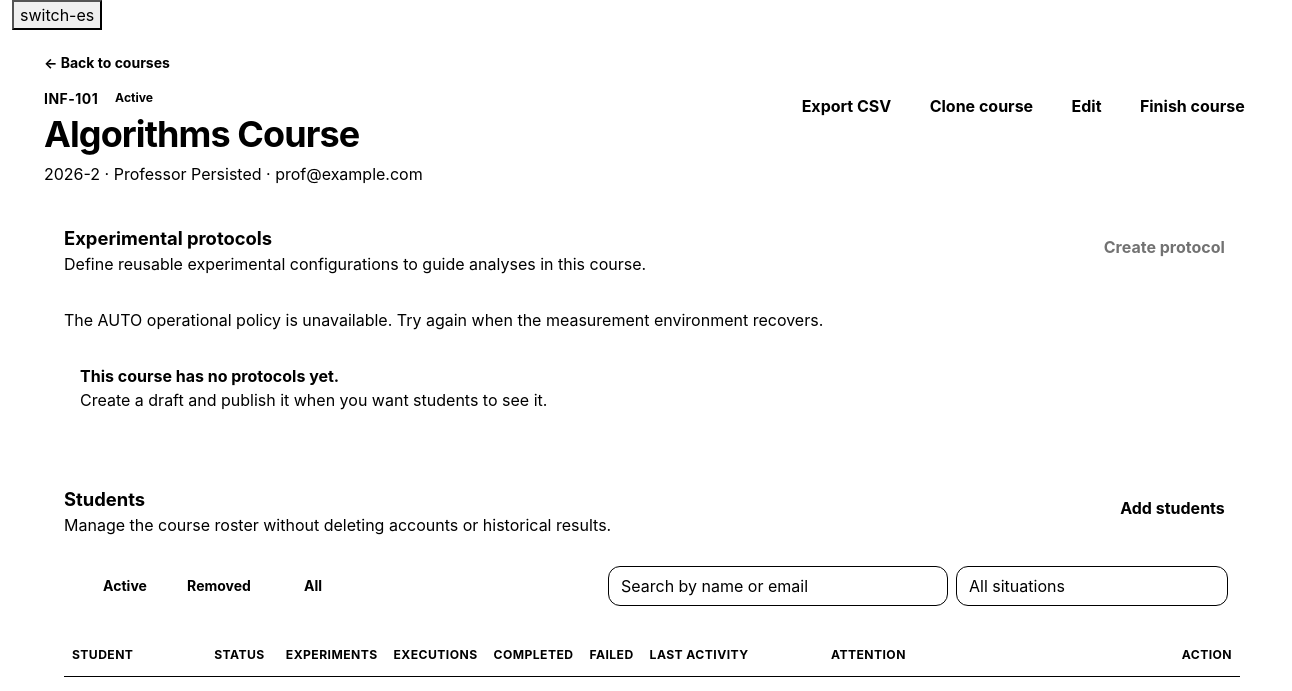
Test case: TeacherCourseDetail roster i18n › localizes bulk enrollment summary and privacy-safe rejection reason
The image size is (1292, 691).
Click the button "Add students" at [1172, 508], box x1=1105 y1=488 x2=1240 y2=528
(page scrolled)
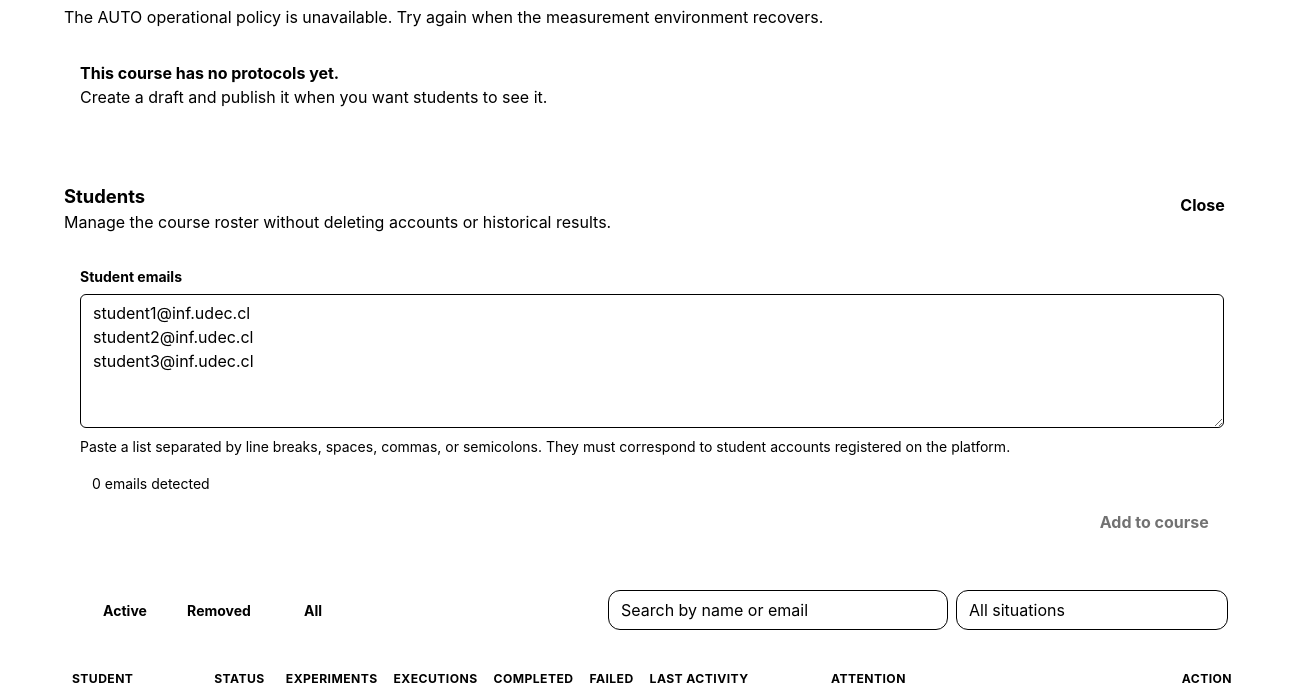
Replace the text in the text box labelled "Student emails" with "ghost@example.com" at [652, 360], box x1=80 y1=294 x2=1224 y2=428
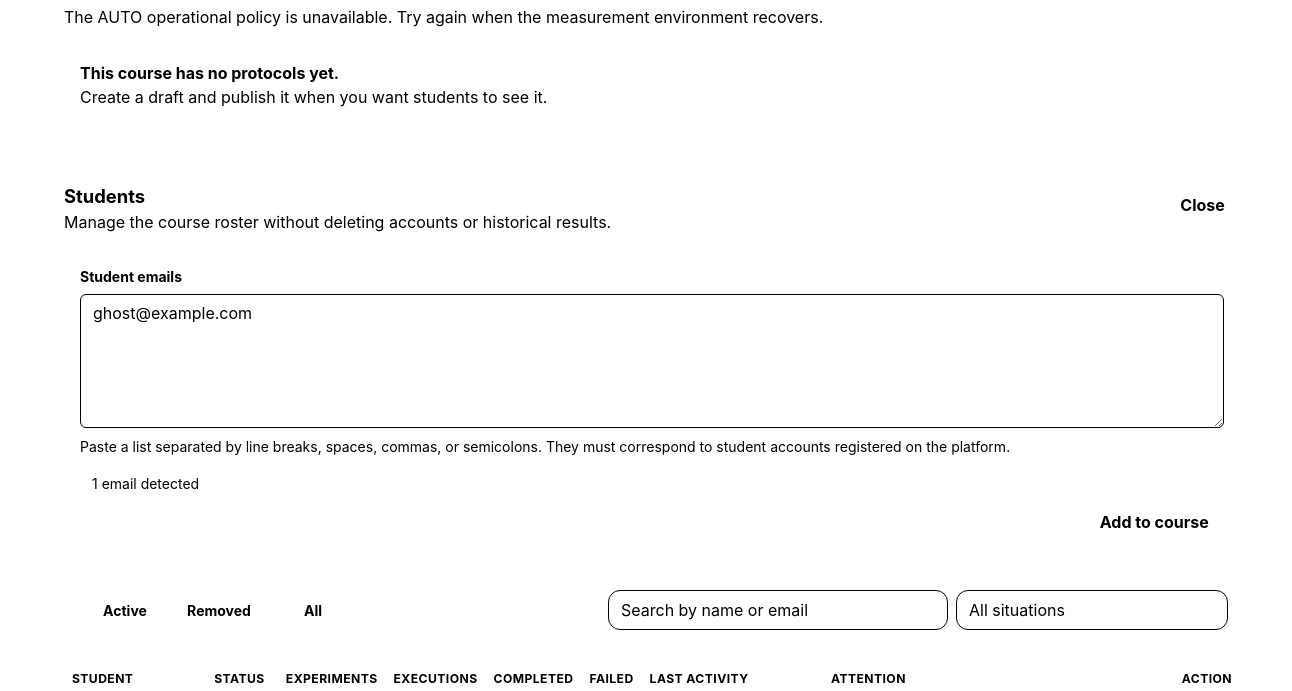
Submit the form labelled "Student emails", box x1=64 y1=250 x2=1240 y2=558
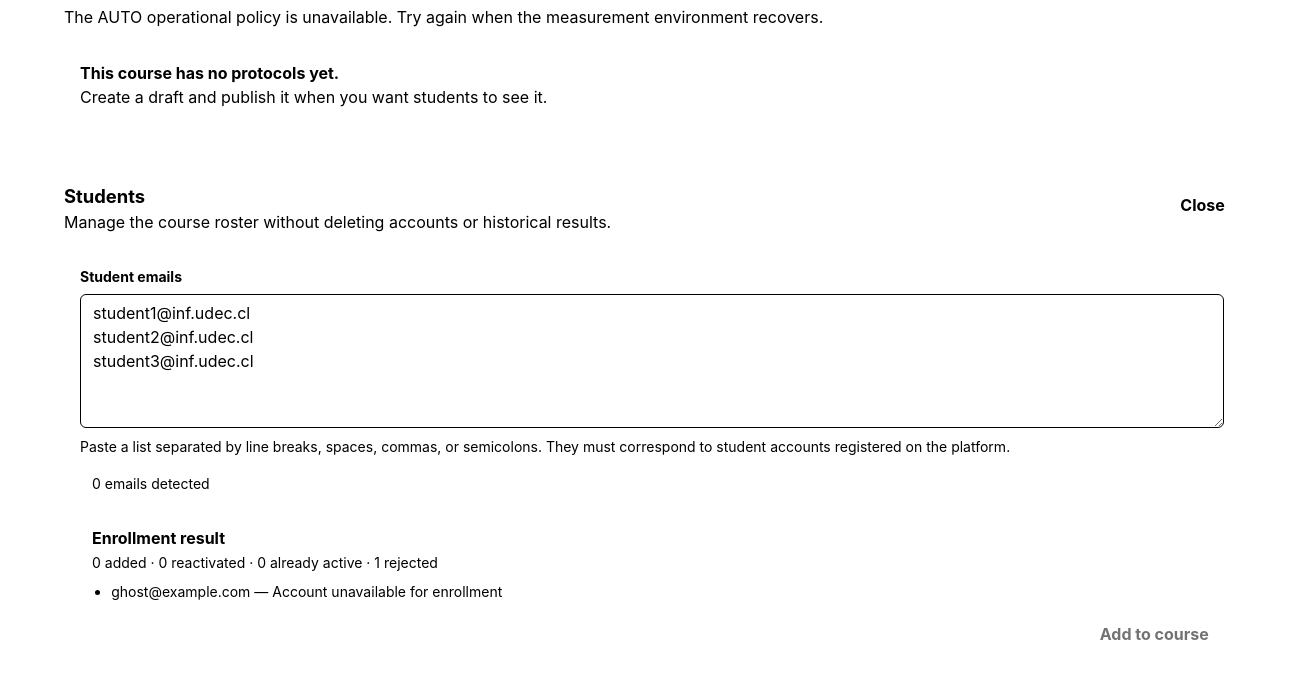
Now the text "Enrollment result" is shown, box x1=92 y1=528 x2=225 y2=548
Now the text "0 added · 0 reactivated · 0 already active · 1 rejected" is shown, box x1=92 y1=554 x2=438 y2=571
Now the list item "ghost@example.com — Account unavailable for enrollment" is shown, box x1=111 y1=583 x2=502 y2=600
